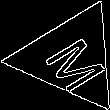M_NE: (33, 24, 108, 91)
